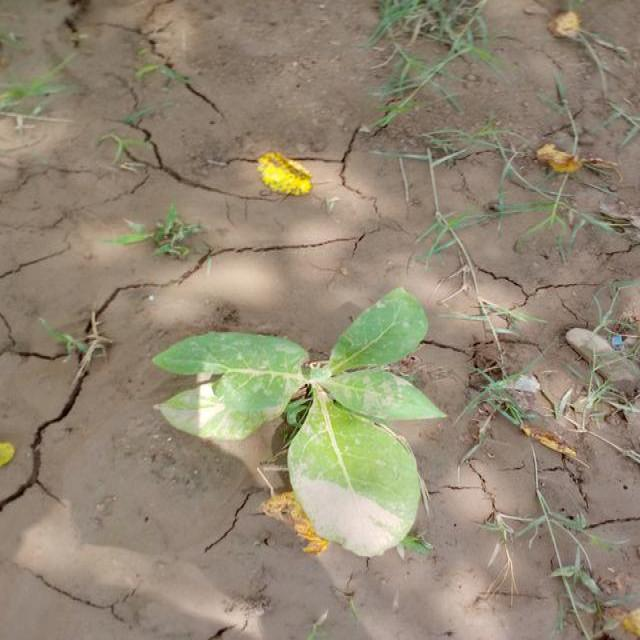crop: (157, 292, 440, 552)
